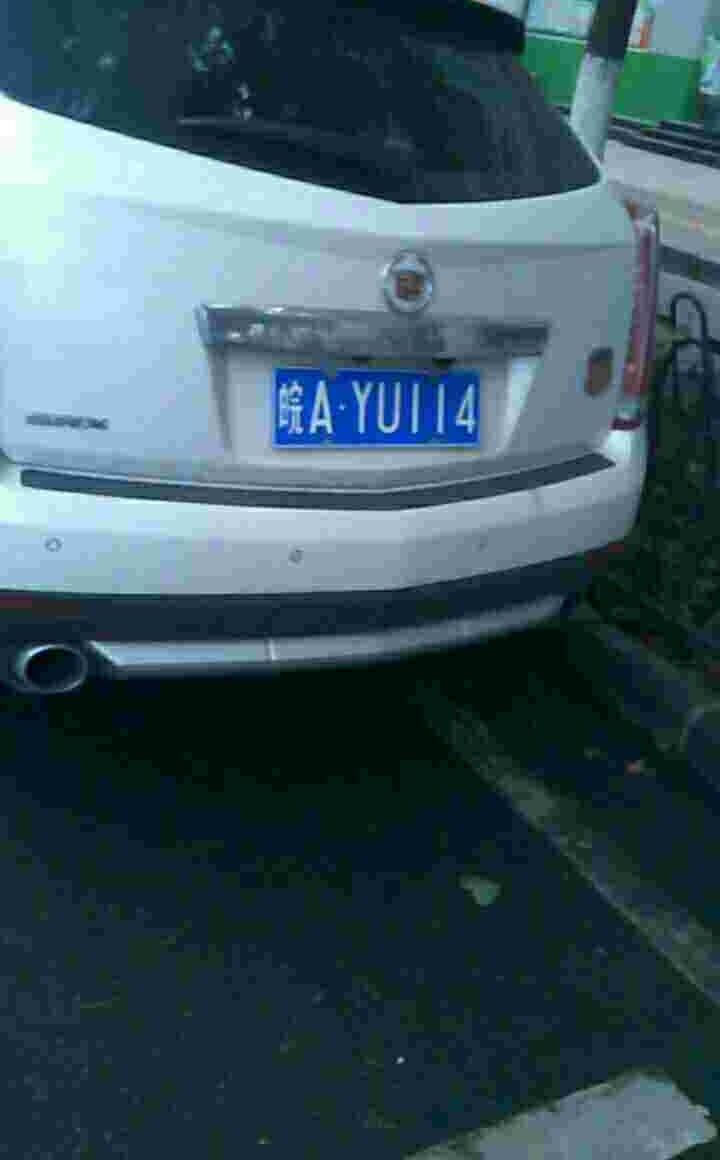license_plate: (267, 363, 490, 457)
